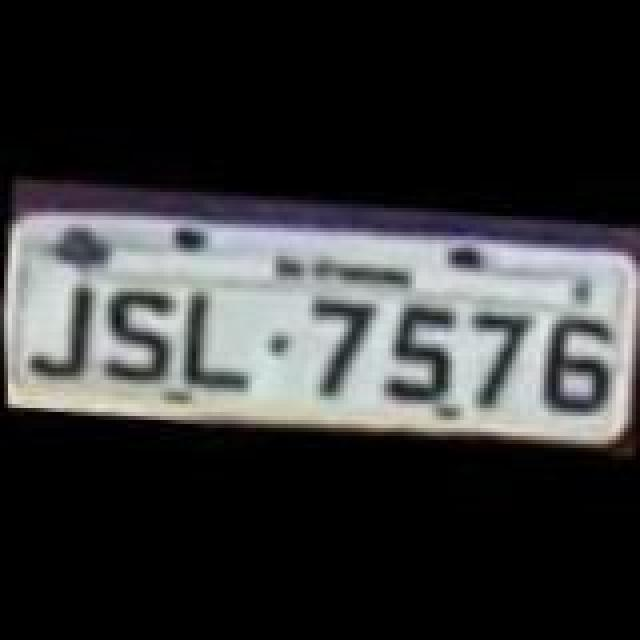5: (384, 298, 464, 410)
6: (528, 312, 616, 424)
7: (292, 290, 380, 410), (456, 302, 536, 418)
J: (18, 272, 98, 388)
L: (174, 284, 262, 400)
S: (96, 276, 180, 392)
